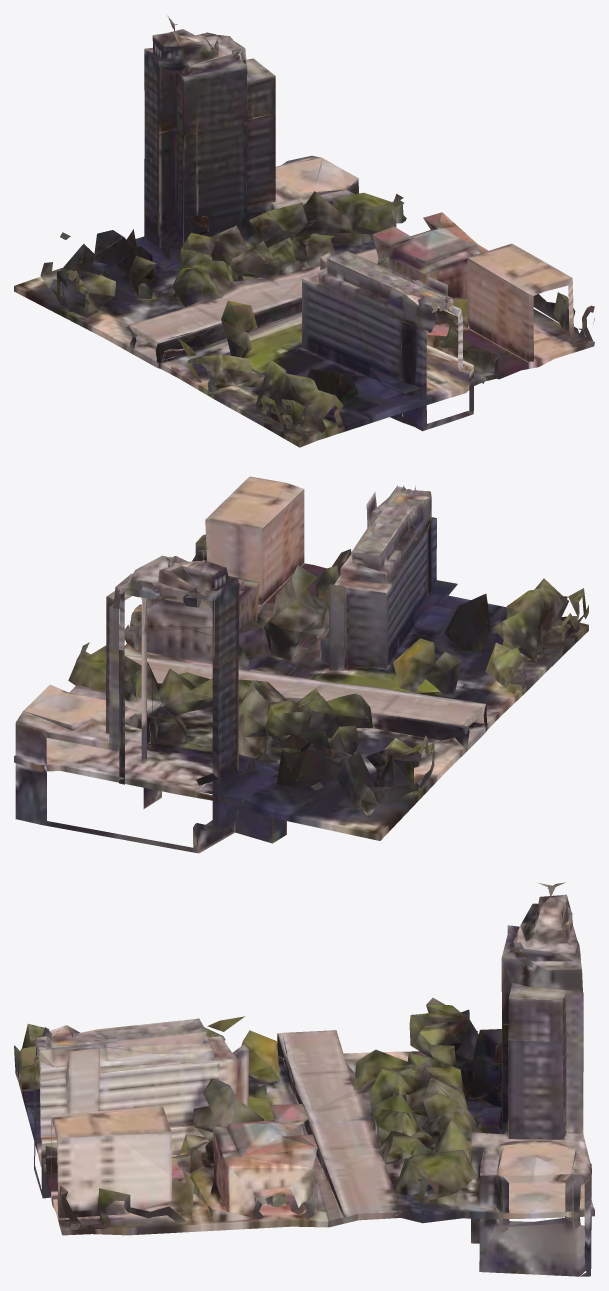
3 renders of one model, top to bottom at view 1: azimuth 30°, elevation 25°; view 2: azimuth 150°, elevation 25°; view 3: azimuth 270°, elevation 25°, orthographic. The views are drawn at different scales.
Visible parts, largest first — view 1: Mesh_0; view 2: Mesh_0; view 3: Mesh_0.
Boxes of the visible parts, x1,y1,x2,y2 form: Mesh_0: [14, 15, 594, 447]; Mesh_0: [14, 476, 588, 853]; Mesh_0: [14, 882, 594, 1276].
Size of the model in its own units: 133 by 96.76 by 165.
2 materials, 2 textured.
